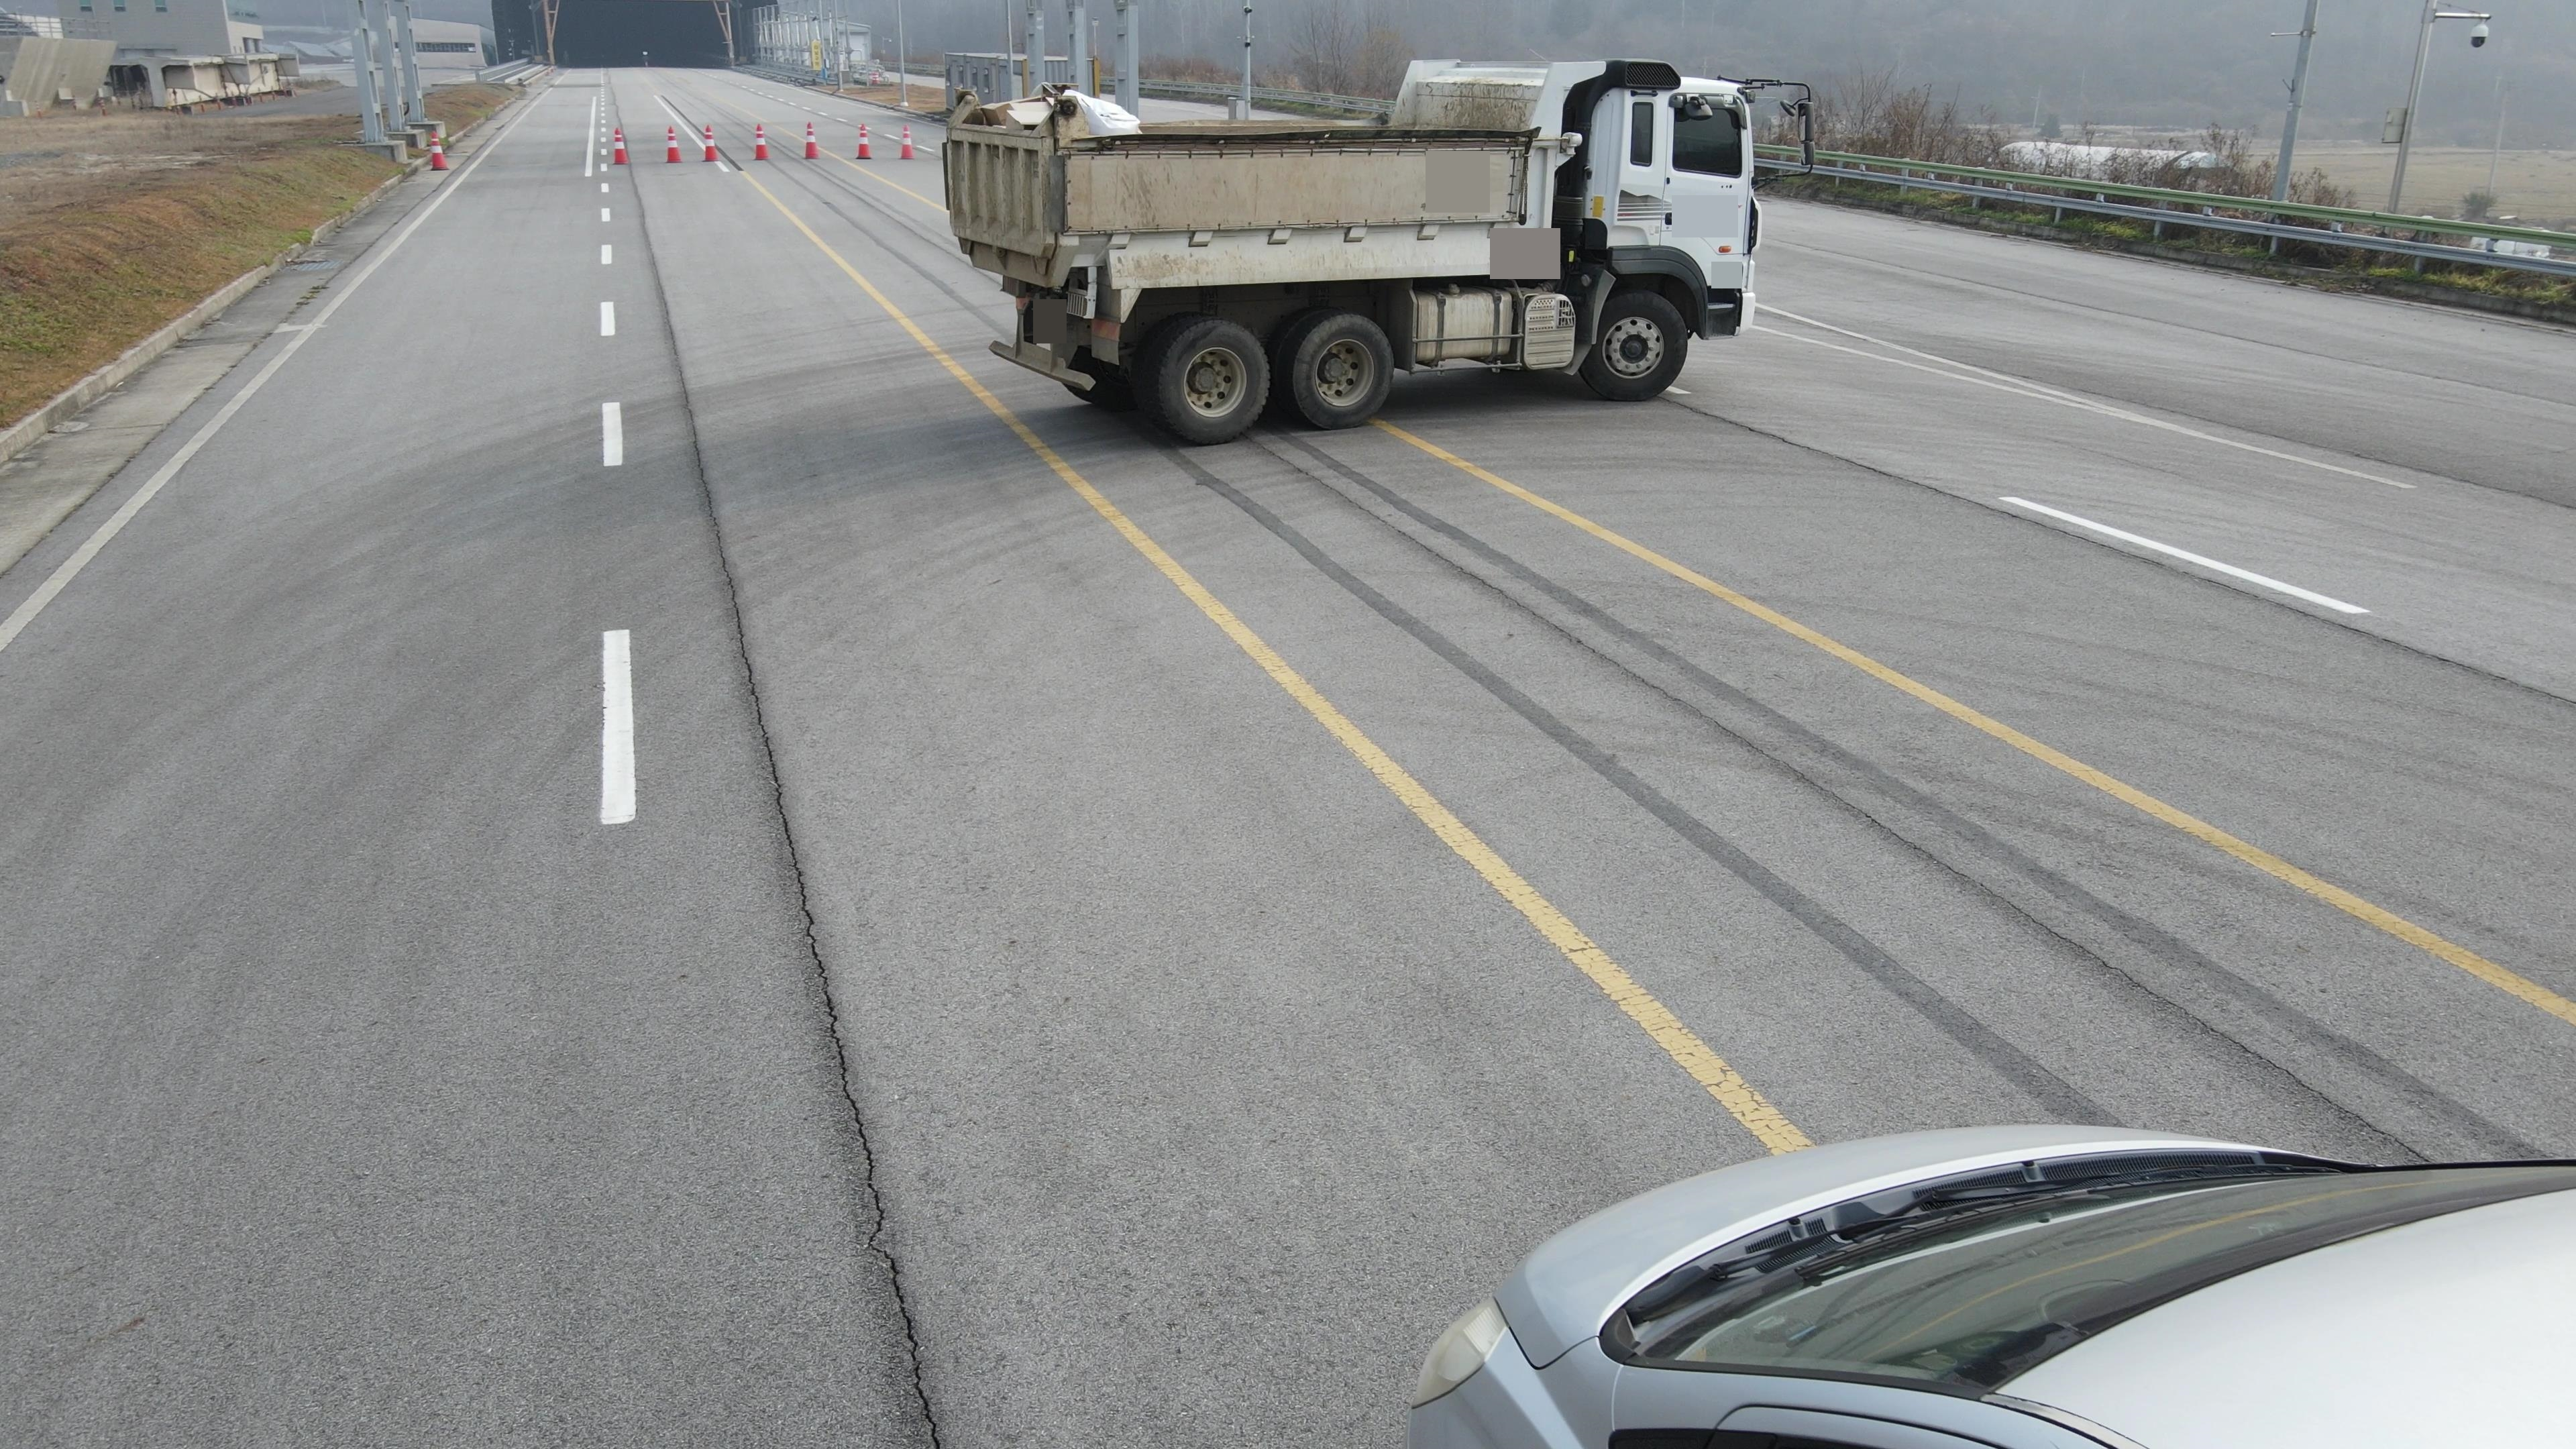불법차량: (941, 60, 1819, 446)
